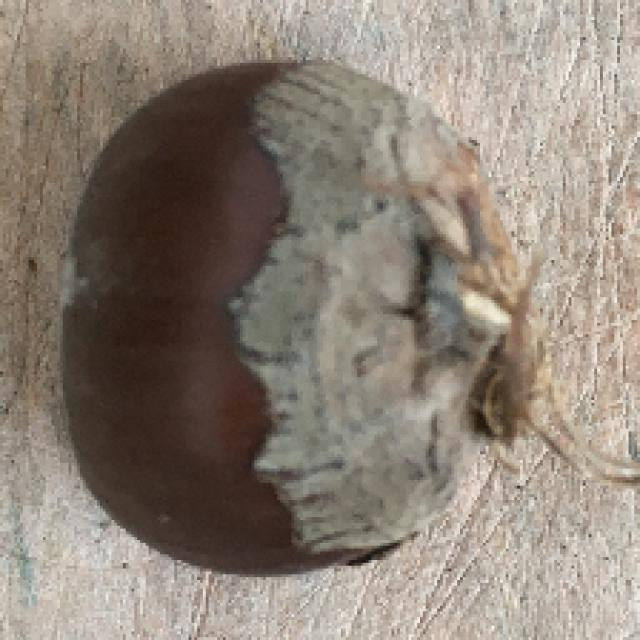damagedHazelnut: (57, 58, 551, 573)
